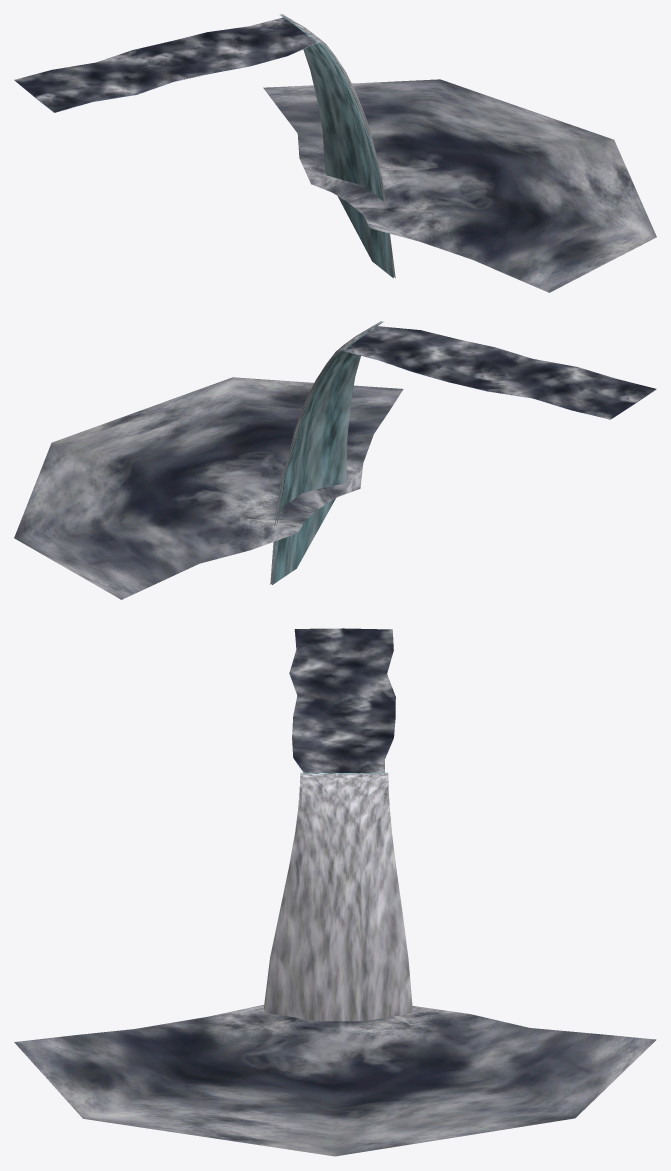
File: LONE_MOUNTAIN_WATERFALLS_GEARROOM_WATERFALL.fbx
The picture shows the model from 3 angles, top to bottom: view 1: azimuth 30°, elevation 25°; view 2: azimuth 150°, elevation 25°; view 3: azimuth 270°, elevation 25°; orthographic projection. The views are drawn at different scales.
Parts seen in each view (by area): view 1: LONE_MOUNTAIN_WATERFALLS_GEARROOM_WATERFALL; view 2: LONE_MOUNTAIN_WATERFALLS_GEARROOM_WATERFALL; view 3: LONE_MOUNTAIN_WATERFALLS_GEARROOM_WATERFALL.
Part boxes in pixels (left/top/right/bottom): LONE_MOUNTAIN_WATERFALLS_GEARROOM_WATERFALL: left=14, top=14, right=656, bottom=292; LONE_MOUNTAIN_WATERFALLS_GEARROOM_WATERFALL: left=14, top=321, right=656, bottom=599; LONE_MOUNTAIN_WATERFALLS_GEARROOM_WATERFALL: left=14, top=628, right=656, bottom=1156.
Bounding box in the file's own units: 213320 × 91586 × 180385.
Materials: 5 (5 with a texture image).
